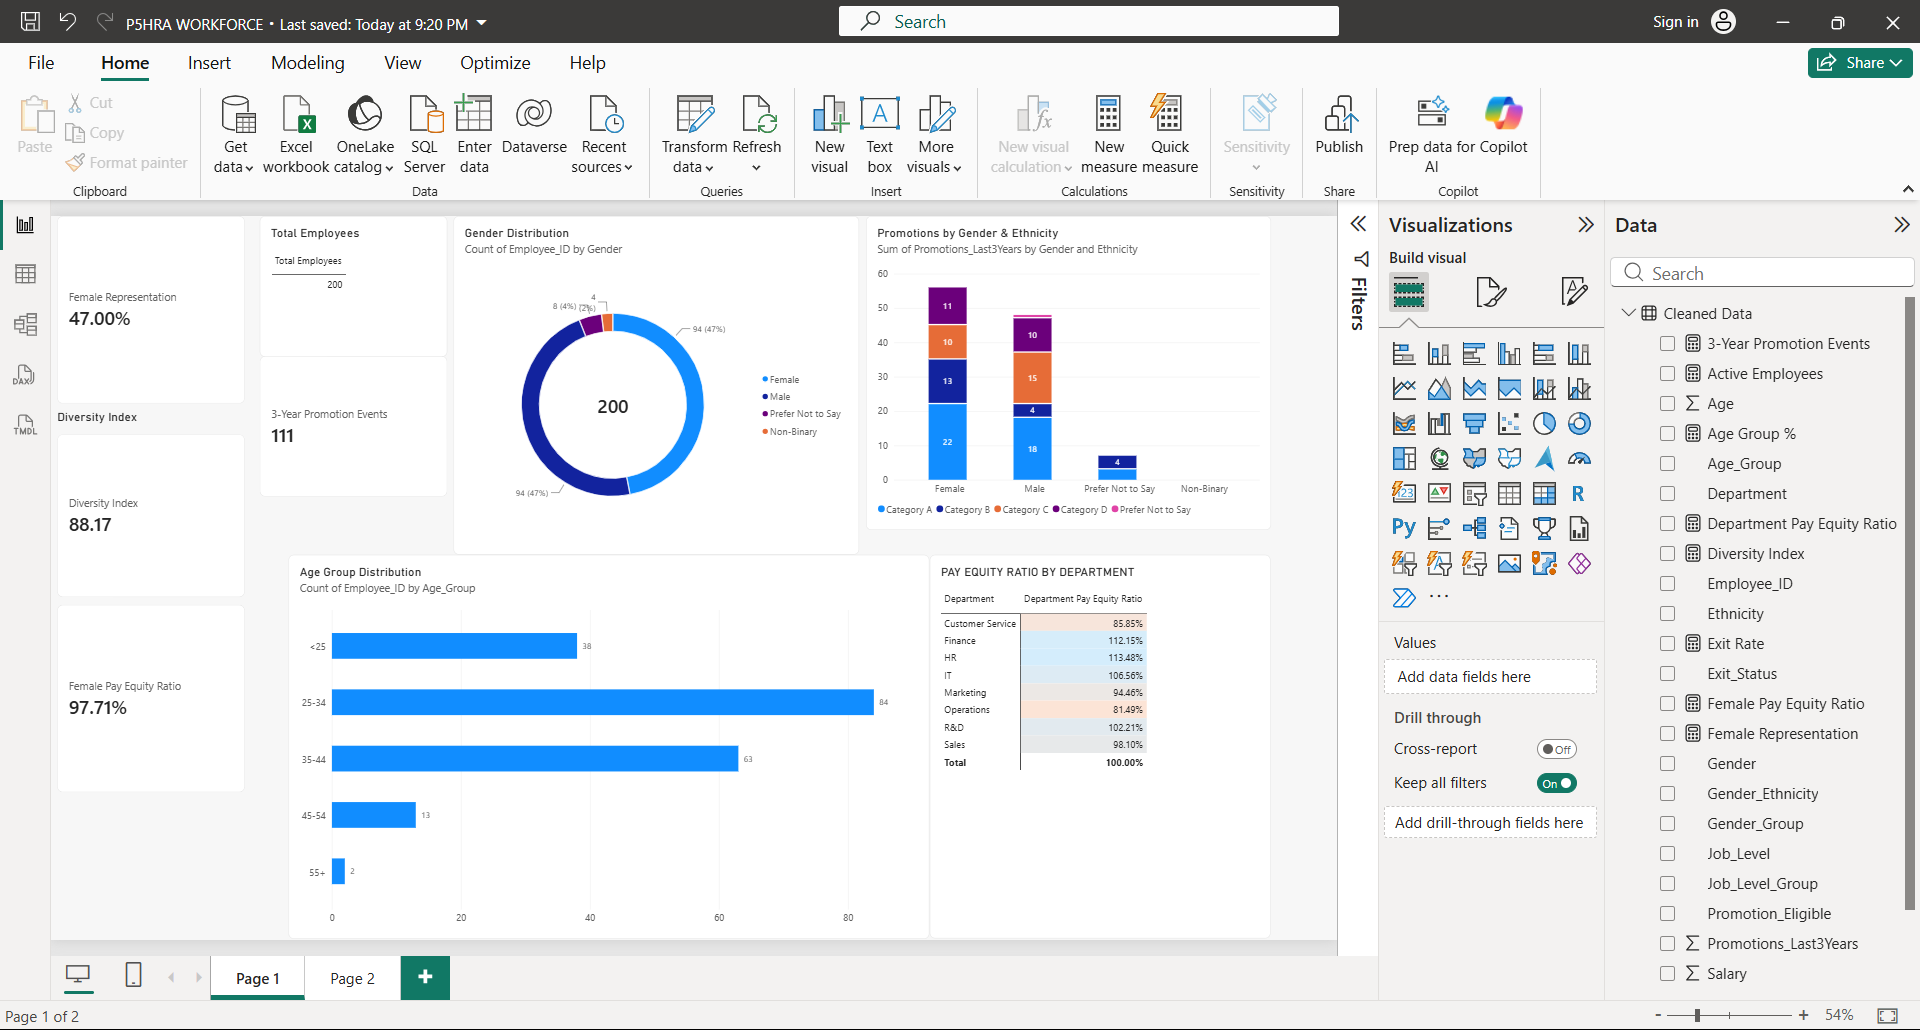

The page's visual inventory and layout, read from the dashboard file:
{"tool":"powerbi","page":{"name":"Page 1","canvas":[1920,1080],"ordinal":0},"visuals":[{"type":"cardVisual","fields":{"Data":["Cleaned Data.Female Representation"]},"box":[10,0,280,280],"z":0},{"type":"cardVisual","title":"Diversity Index","fields":{"Data":["Cleaned Data.Diversity Index"]},"box":[10,290,280,280],"z":1},{"type":"cardVisual","fields":{"Data":["Cleaned Data.Female Pay Equity Ratio"]},"box":[10,580,280,280],"z":2},{"type":"tableEx","title":"Total Employees","fields":{"Values":["Cleaned Data.Total Employees"]},"box":[310.8,0,280,210],"z":3},{"type":"cardVisual","fields":{"Data":["Cleaned Data.3-Year Promotion Events"]},"box":[310.8,209.9,280,210],"z":4},{"type":"donutChart","title":"Gender Distribution","fields":{"Category":["Cleaned Data.Gender"],"Y":["CountNonNull(Cleaned Data.Employee_ID)"]},"box":[600.6,0,605.3,505.6],"z":5},{"type":"clusteredBarChart","title":"Age Group Distribution","fields":{"Category":["Cleaned Data.Age_Group"],"Y":["CountNonNull(Cleaned Data.Employee_ID)"]},"box":[355.3,505.7,957,573.3],"z":6},{"type":"columnChart","title":"Promotions by Gender & Ethnicity","fields":{"Category":["Cleaned Data.Gender"],"Series":["Cleaned Data.Ethnicity"],"Y":["Sum(Cleaned Data.Promotions_Last3Years)"]},"box":[1216,0,605,469],"z":7},{"type":"pivotTable","title":"PAY EQUITY RATIO BY DEPARTMENT","fields":{"Rows":["Cleaned Data.Department"],"Values":["Cleaned Data.Department Pay Equity Ratio"]},"box":[1312,506,509,573],"z":8}]}

Visuals, with their boxes on the page's 1920x1080 design canvas (x1, y1, x2, y2). These are canvas units, not pixel positions in the 1920x1030 screenshot, which may show the page scaled, cropped or inside an application window:
cardVisual - Cleaned Data.Female Representation: 10, 0, 290, 280
"Diversity Index" cardVisual: 10, 290, 290, 570
cardVisual - Cleaned Data.Female Pay Equity Ratio: 10, 580, 290, 860
"Total Employees" tableEx: 311, 0, 591, 210
cardVisual - Cleaned Data.3-Year Promotion Events: 311, 210, 591, 420
"Gender Distribution" donutChart: 601, 0, 1206, 506
"Age Group Distribution" clusteredBarChart: 355, 506, 1312, 1079
"Promotions by Gender & Ethnicity" columnChart: 1216, 0, 1821, 469
"PAY EQUITY RATIO BY DEPARTMENT" pivotTable: 1312, 506, 1821, 1079
